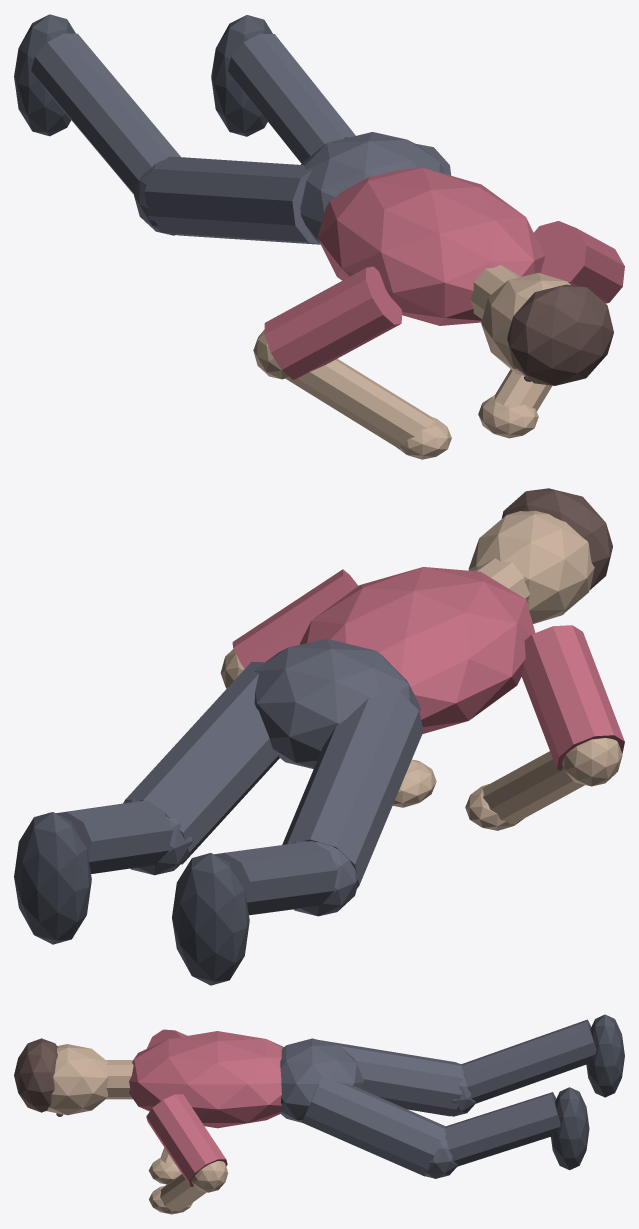
3 views of the same model, one above another, from view 1: azimuth 30°, elevation 25°; view 2: azimuth 150°, elevation 25°; view 3: azimuth 270°, elevation 25° (orthographic). The views are drawn at different scales.
Parts seen in each view (by area): view 1: world; view 2: world; view 3: world.
Boxes of the visible parts, x1,y1,x2,y2 form: world: (14, 14, 624, 459); world: (14, 488, 624, 985); world: (14, 1014, 624, 1214).
Size of the model in its own units: 0.93 by 0.565 by 2.
